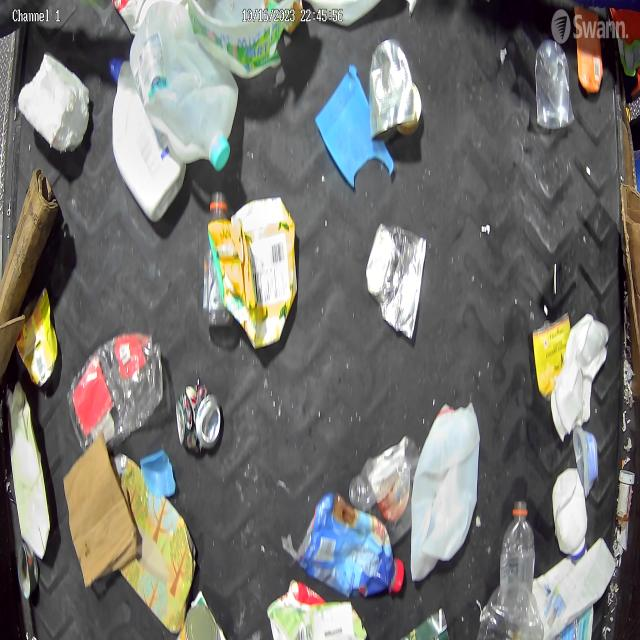can: (366, 224, 428, 340), (370, 38, 421, 138), (14, 291, 58, 386), (175, 383, 222, 452), (175, 601, 217, 640)
milk_jug: (124, 0, 238, 170), (413, 399, 480, 576), (536, 538, 612, 632)
non_white_jug: (208, 194, 298, 350), (108, 59, 186, 223)
plastic_bottle: (348, 435, 419, 542), (498, 500, 538, 632), (200, 191, 228, 327)
